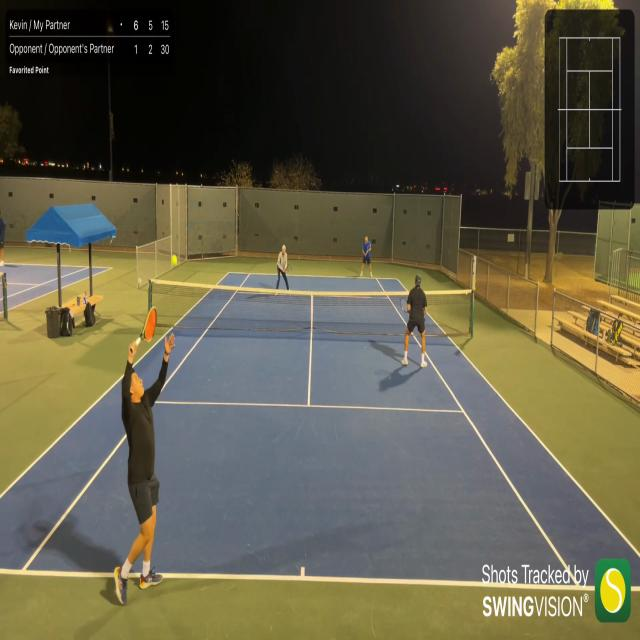ball: (171, 254, 177, 266)
